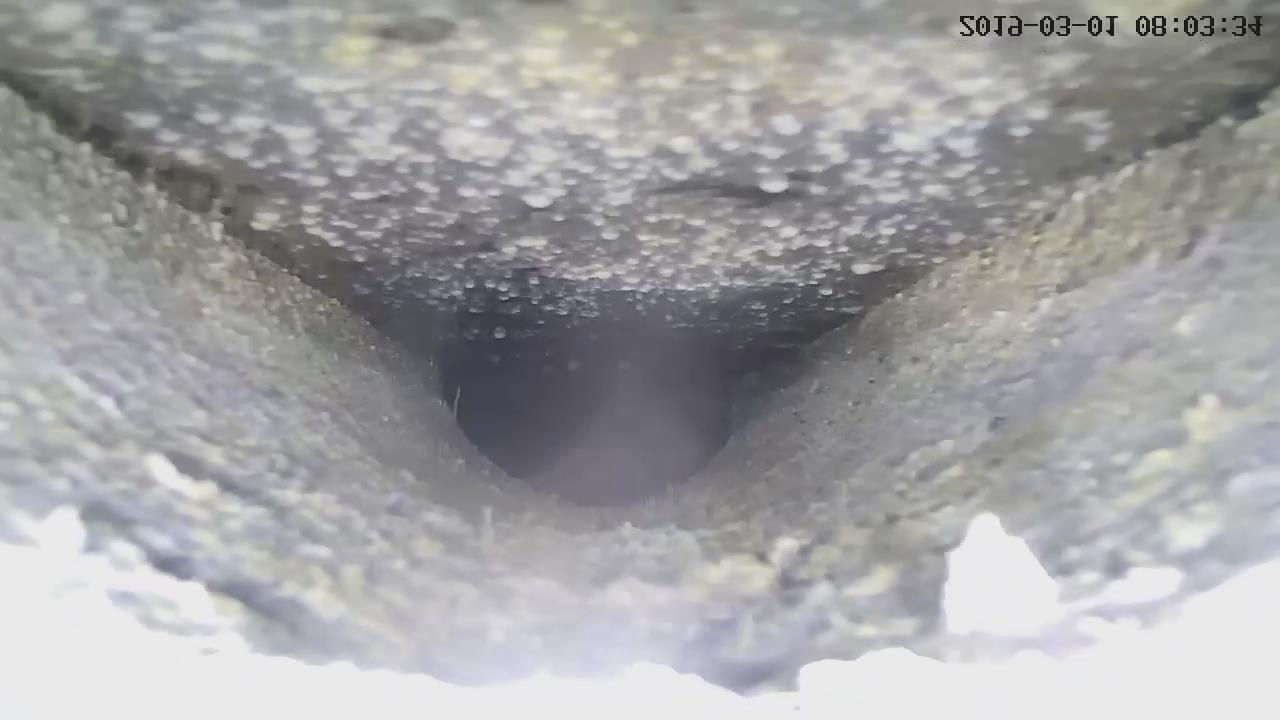FZ: (0, 1, 1279, 348)
JG: (0, 86, 1279, 693)
